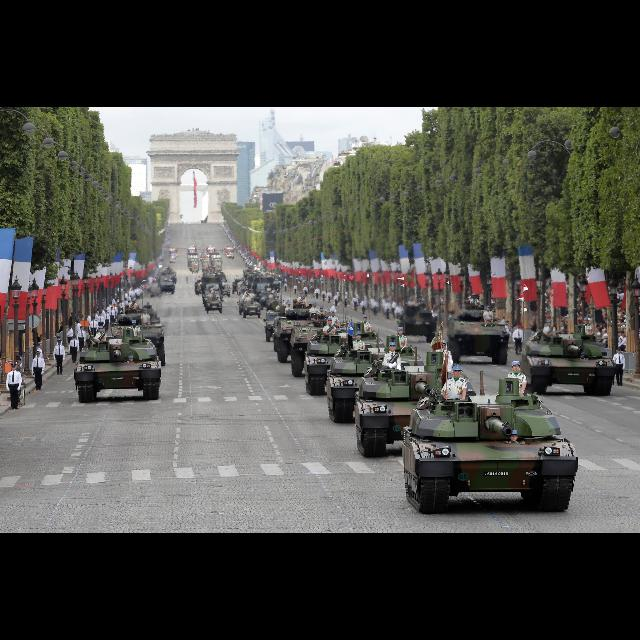head: (511, 363, 521, 373), (453, 368, 462, 378), (389, 345, 397, 353), (16, 357, 22, 365), (398, 329, 404, 335), (356, 334, 362, 340), (98, 327, 104, 333), (442, 342, 446, 350), (12, 364, 16, 372), (548, 320, 552, 328), (363, 316, 367, 322), (331, 311, 335, 317), (328, 319, 332, 325), (300, 292, 304, 298), (143, 308, 147, 314), (36, 352, 40, 358), (36, 344, 40, 350), (58, 340, 62, 346), (487, 306, 491, 312), (584, 319, 588, 325), (16, 356, 20, 362), (313, 303, 317, 307), (132, 322, 136, 326), (130, 298, 134, 302), (80, 327, 84, 331), (516, 325, 520, 329), (617, 350, 621, 354), (86, 313, 90, 317), (60, 322, 64, 326), (57, 337, 61, 341), (68, 326, 72, 330), (472, 294, 476, 298), (278, 302, 282, 306), (105, 310, 108, 314), (247, 294, 250, 298), (76, 321, 80, 324), (288, 304, 290, 308), (74, 336, 76, 340), (92, 318, 96, 320), (100, 312, 102, 316), (70, 314, 74, 316), (111, 308, 113, 310), (336, 296, 338, 298), (329, 291, 331, 293), (317, 288, 319, 290), (285, 282, 287, 284), (296, 284, 296, 286)
person: (440, 364, 468, 438), (504, 360, 528, 418), (382, 342, 402, 392), (435, 339, 455, 386), (5, 364, 22, 411), (349, 332, 367, 371), (30, 352, 46, 392), (13, 358, 25, 406), (612, 348, 626, 388), (322, 317, 338, 351), (578, 318, 594, 352), (326, 311, 342, 344), (394, 326, 408, 362), (52, 340, 66, 376), (542, 319, 556, 355), (512, 324, 526, 358), (359, 314, 373, 346), (127, 320, 141, 352), (94, 326, 108, 356), (34, 343, 44, 379), (14, 354, 22, 398), (68, 335, 80, 363), (468, 294, 482, 318), (54, 336, 64, 368), (309, 302, 321, 328), (88, 317, 100, 343), (140, 308, 150, 336), (77, 326, 87, 354), (484, 305, 494, 331), (66, 324, 74, 356), (298, 292, 308, 316), (96, 311, 105, 337), (68, 312, 76, 340), (128, 296, 138, 318), (274, 300, 286, 318), (57, 321, 65, 347), (284, 302, 294, 322), (103, 311, 111, 334), (76, 319, 82, 349), (108, 306, 116, 328), (87, 312, 93, 338), (244, 294, 252, 310), (326, 290, 334, 304), (314, 288, 322, 300), (333, 295, 339, 307), (293, 284, 299, 296), (282, 283, 288, 293)
